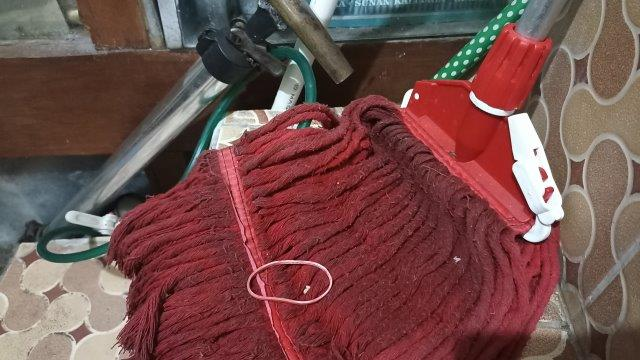karet: (246, 260, 332, 304)
